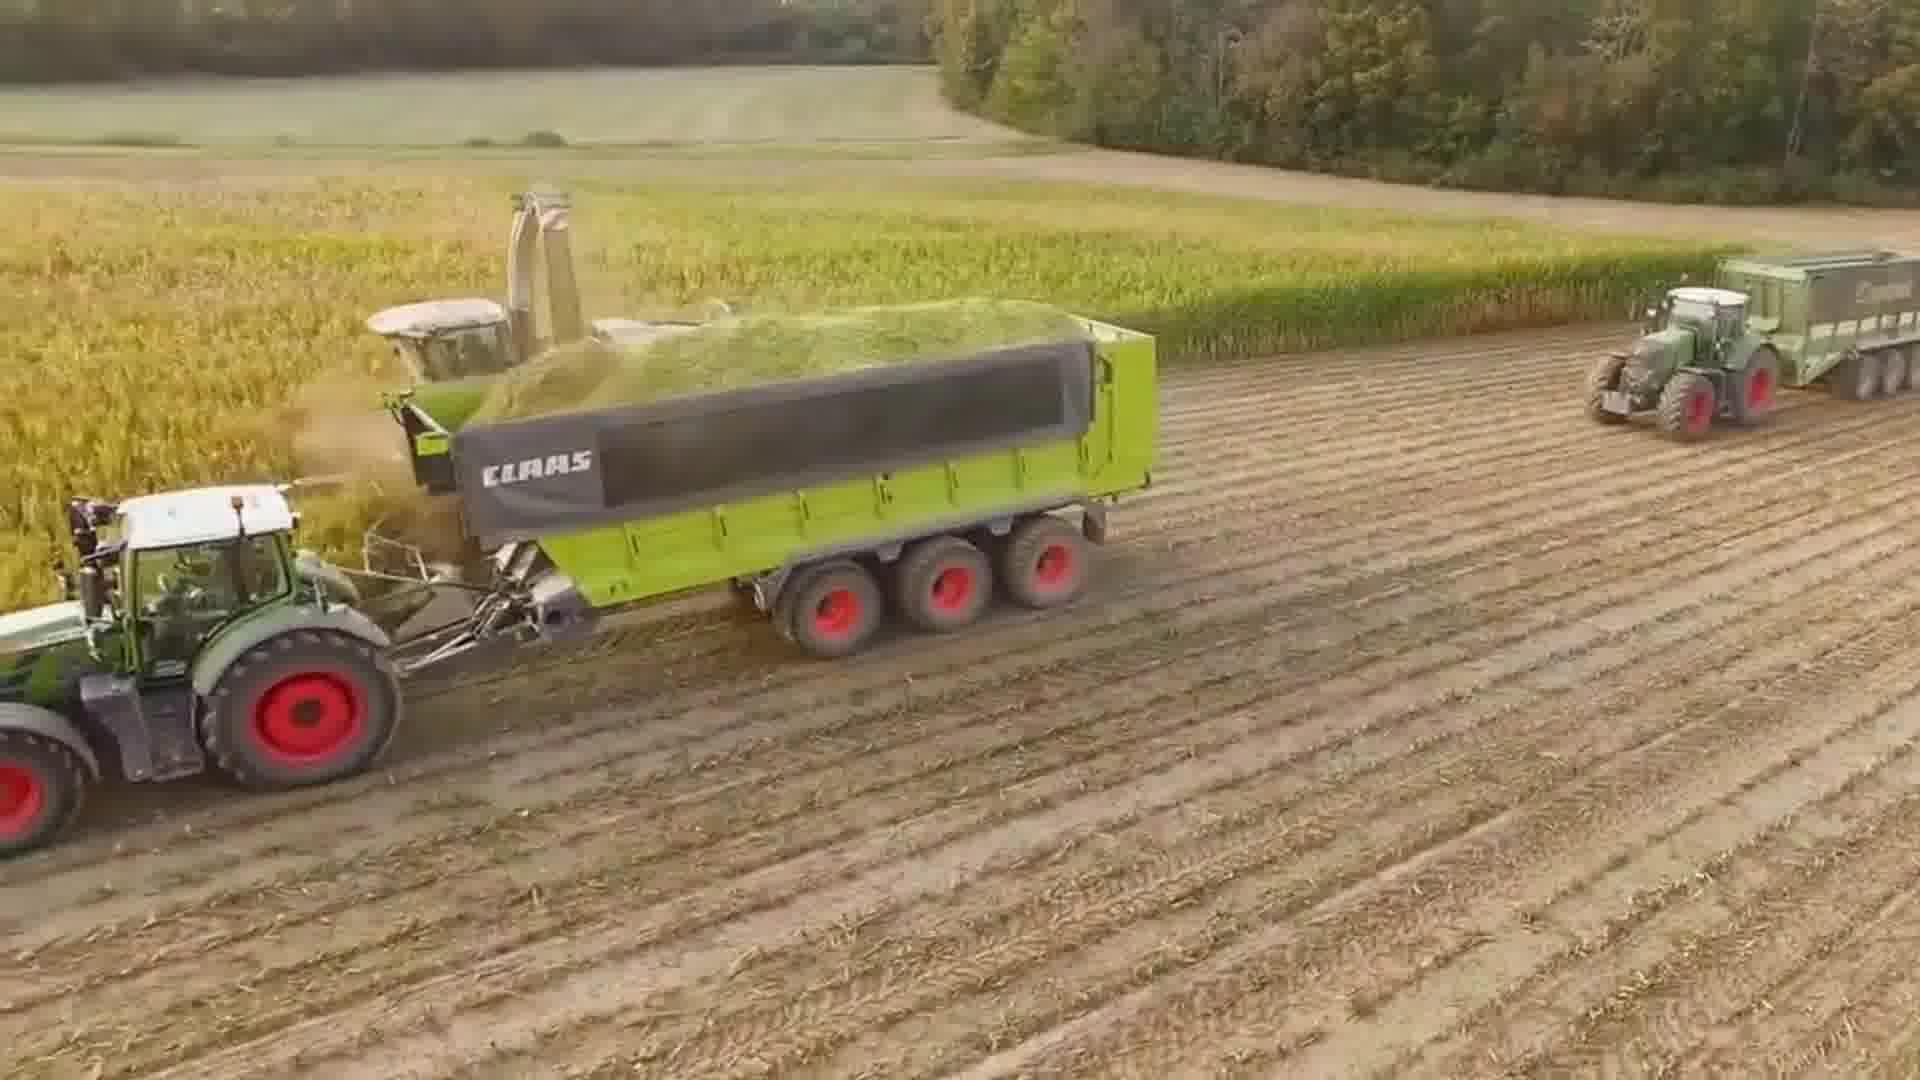combine harvester: (360, 177, 702, 363)
tractor: (0, 462, 414, 868), (1577, 277, 1784, 448)
trailer: (380, 290, 1172, 670), (1705, 243, 1920, 405)
